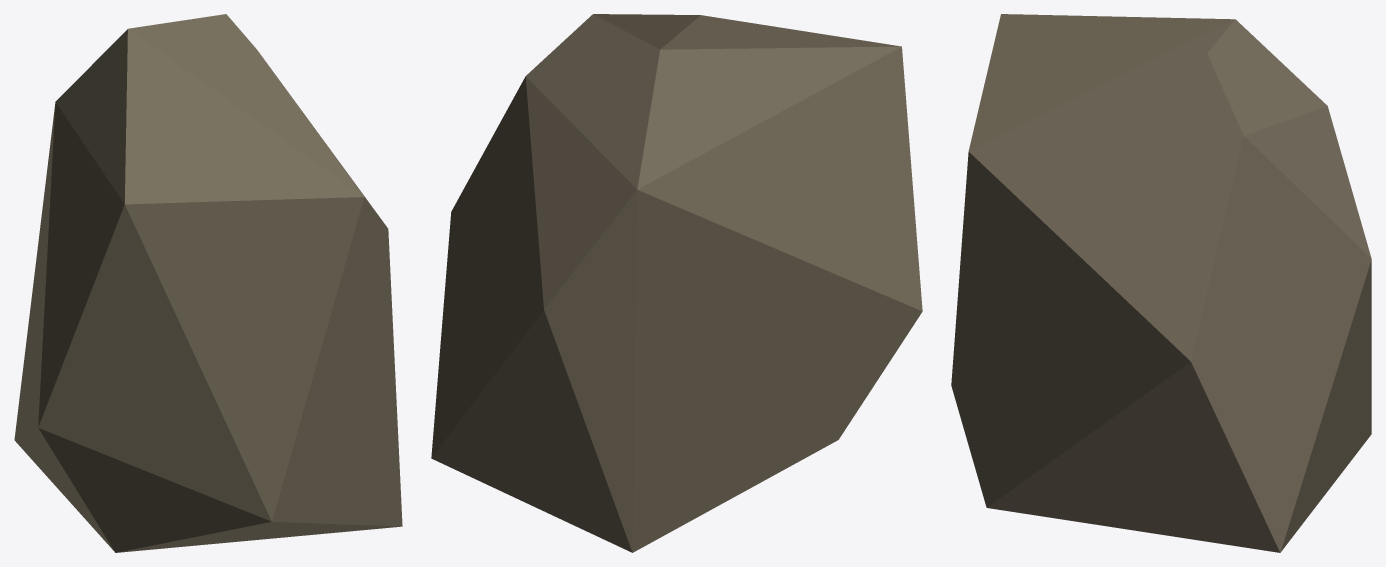
The model's file is Rock_3.fbx.
The picture shows the model from 3 angles, left to right: view 1: azimuth 30°, elevation 25°; view 2: azimuth 150°, elevation 25°; view 3: azimuth 270°, elevation 25°; orthographic projection. The views are drawn at different scales.
Visible parts, largest first — view 1: rock_2; view 2: rock_2; view 3: rock_2.
Part boxes in pixels (bbox=[...]): rock_2: bbox=[14, 14, 402, 552]; rock_2: bbox=[431, 14, 922, 552]; rock_2: bbox=[951, 14, 1371, 552].
Size of the model in its own units: 45.83 by 48.19 by 41.75.
